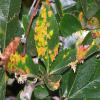Apple rust leaf: (48, 41, 100, 77), (34, 2, 60, 71), (4, 51, 39, 82)
